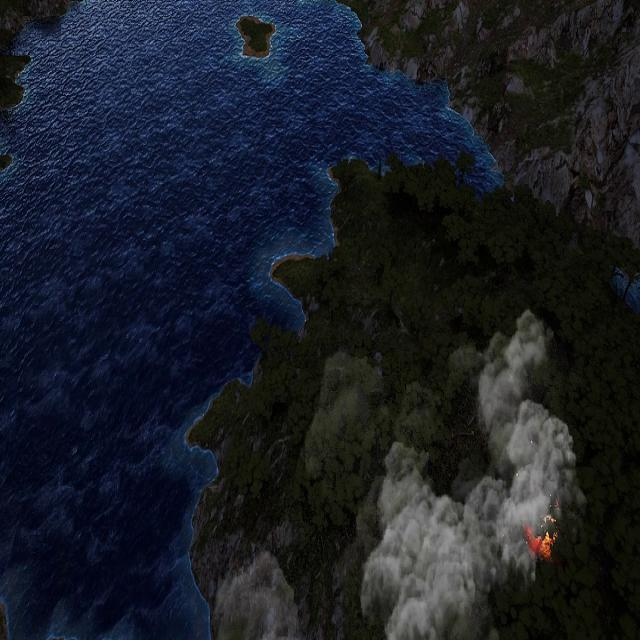fire: (526, 522, 556, 558)
smoke: (359, 312, 598, 640), (211, 545, 305, 640)
